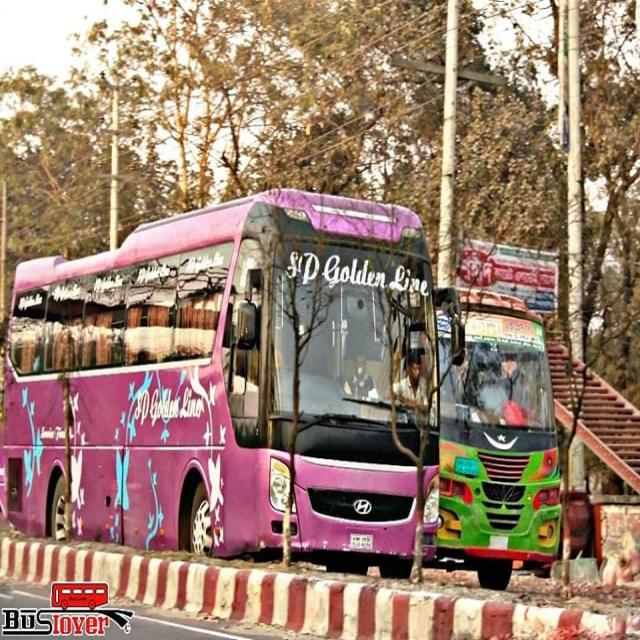bus: (2, 186, 466, 563)
